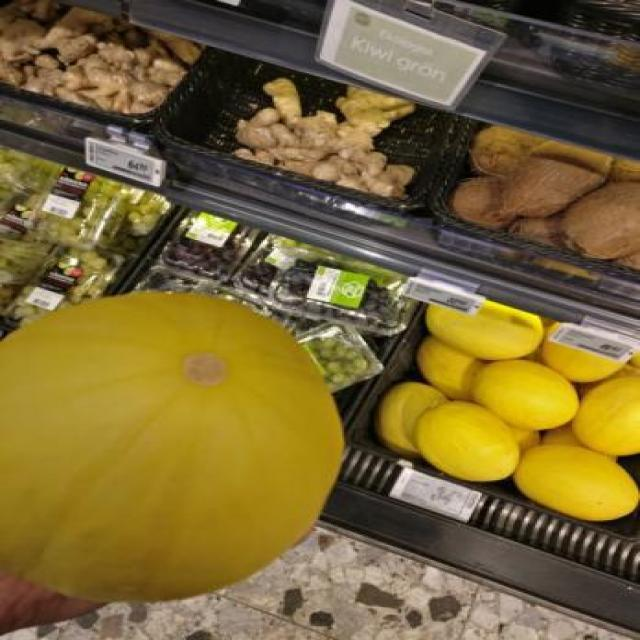Honeydew: (0, 294, 340, 602), (513, 449, 638, 526), (405, 403, 515, 480), (423, 291, 545, 357), (471, 359, 576, 427)
